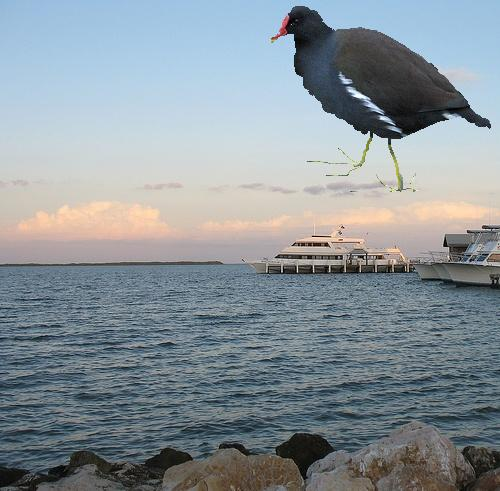tampered: (271, 7, 491, 192)
